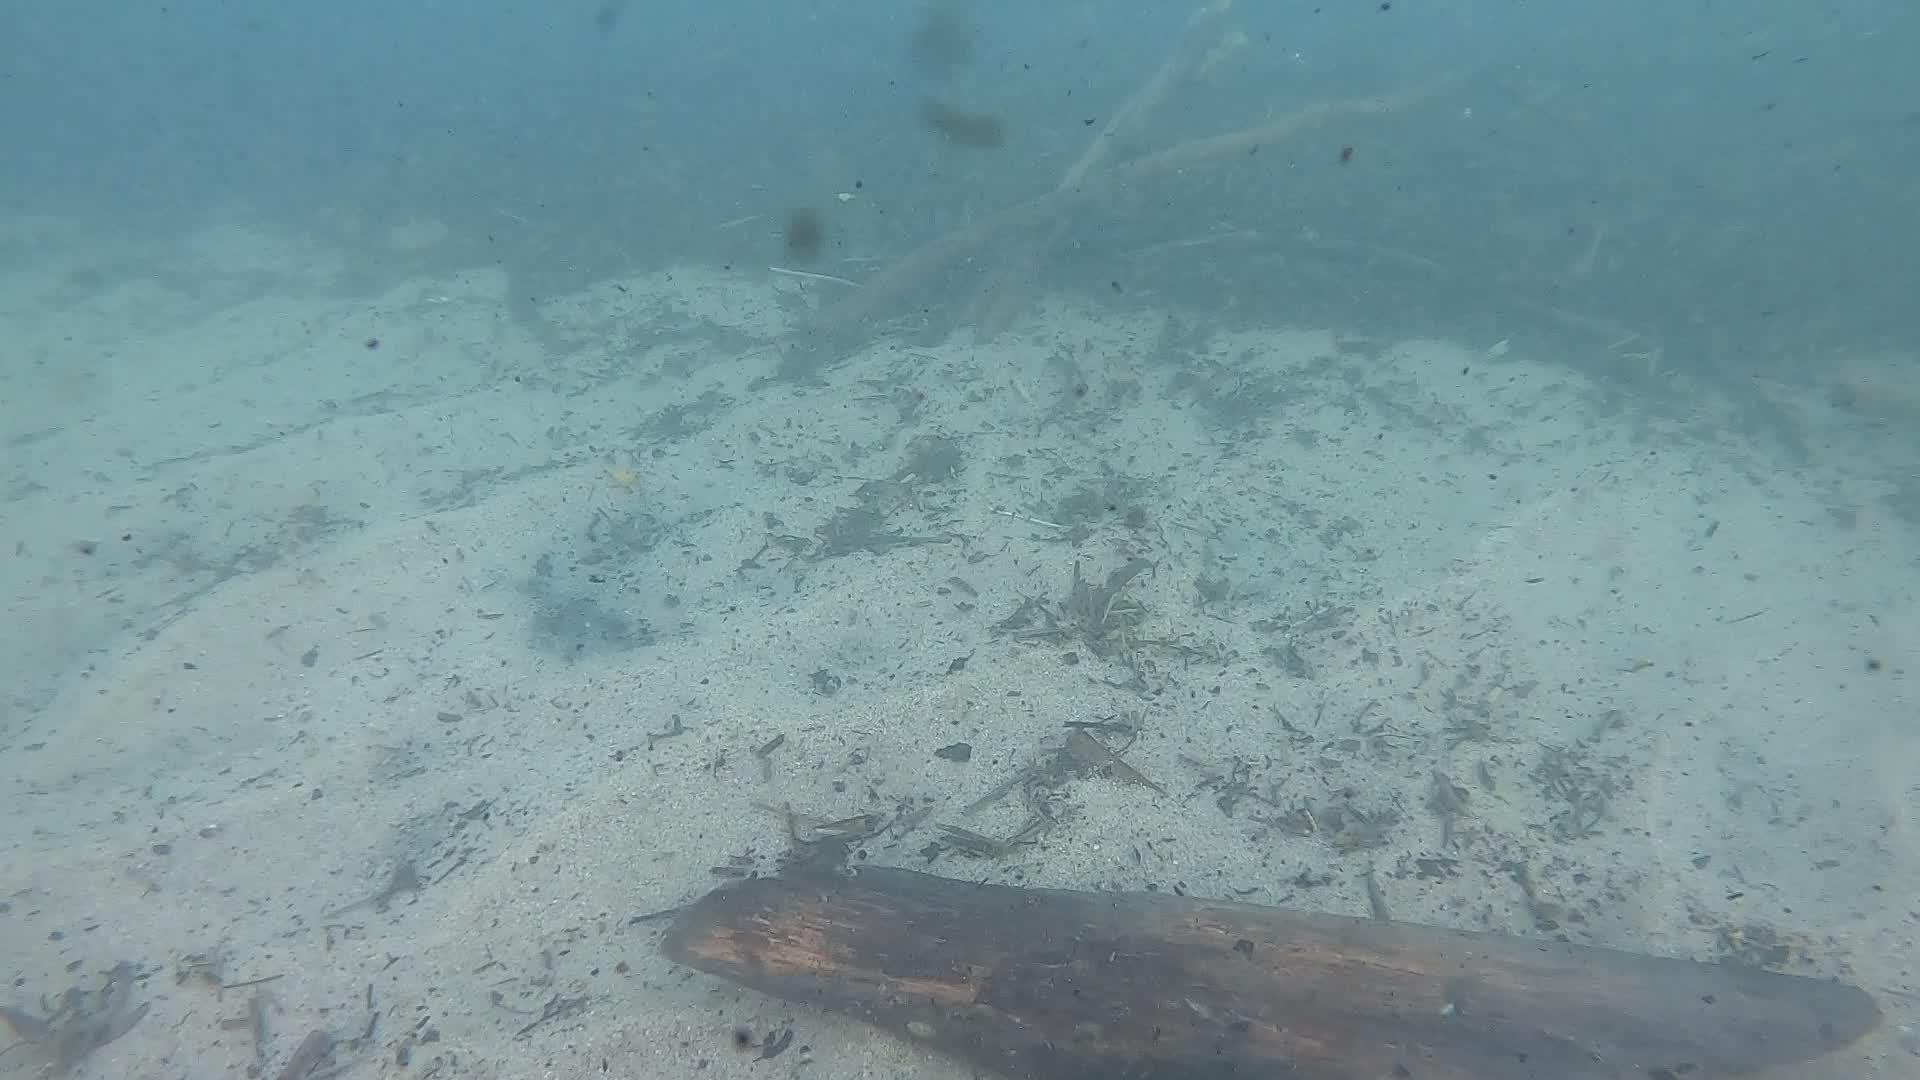wood: (650, 866, 1882, 1080)
